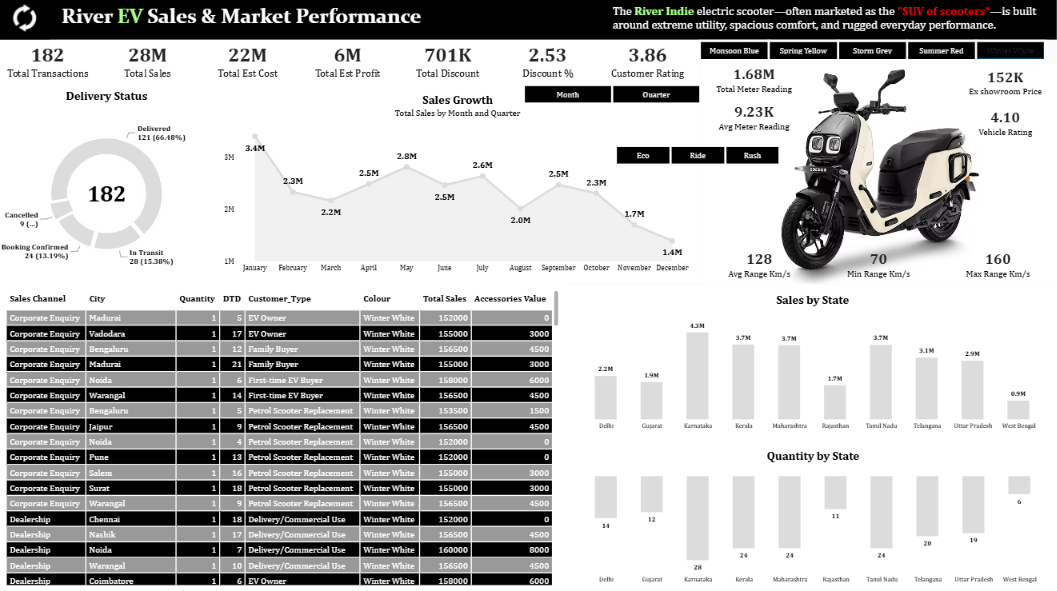

What the dashboard file says about the page in this screenshot:
{"tool":"powerbi","page":{"name":"Page 1","canvas":[1920,1080],"ordinal":0},"visuals":[{"type":"cardVisual","fields":{"Data":["Transactions.Total Transactions","Transactions.Total Sales","Transactions.Total Est Cost","Transactions.Total Est Profit","Transactions.Total Discount Given","Transactions.Total Discount Percentage","Transactions.Customer Rating"]},"box":[0,76,1268.6,83.2],"z":0},{"type":"cardVisual","fields":{"Data":["Min(Transactions.Image URL)"]},"box":[1270.5,122.1,649.5,399.1],"z":0,"group":"g1"},{"type":"shape","box":[0,0,1918.2,77.8],"z":1000},{"type":"cardVisual","fields":{"Data":["Transactions.Ex showroom price of Individual Vehicle"]},"box":[1727.7,120.1,191.9,72.4],"z":2000,"group":"g2"},{"type":"lineChart","title":"Sales Growth","fields":{"Category":["Transactions.Order_Date.Variation.Date Hierarchy.Month","Transactions.Order_Date.Variation.Date Hierarchy.Quarter"],"Y":["Transactions.Total Sales"]},"box":[394.5,159.3,875.9,360.1],"z":2000},{"type":"advancedSlicerVisual","fields":{"Values":["Date Axis.Date Axis"]},"box":[930.2,157.4,365.6,38],"z":3000},{"type":"advancedSlicerVisual","fields":{"Values":["Transactions.Colour"]},"box":[1248.7,77.8,669.6,39.8],"z":4000},{"type":"cardVisual","fields":{"Data":["Transactions.Average Rating"]},"box":[1727.7,192.5,191.9,75.7],"z":4000,"group":"g2"},{"type":"cardVisual","fields":{"Data":["Transactions.Average Range","Transactions.Minimum Range","Transactions.Maximum Range"]},"box":[1270.4,454.5,649.7,62.2],"z":4000,"group":"g1"},{"type":"actionButton","box":[0,0,97.7,77.8],"z":5000},{"type":"cardVisual","fields":{"Data":["Transactions.Total Odometer Reading","Transactions.Average Odometer Reading"]},"box":[1269.7,118.3,197.3,135.7],"z":5000,"group":"g1"},{"type":"textbox","box":[97.7,12.7,803.5,56.1],"z":6000},{"type":"donutChart","title":"Delivery Status","fields":{"Category":["Transactions.Delivery_Status"],"Y":["CountNonNull(Transactions.Delivery_Status)"]},"box":[0,152,394.5,369.2],"z":7000},{"type":"lineClusteredColumnComboChart","title":"Sales by State","fields":{"Category":["Transactions.State"],"Y":["Transactions.Total Sales"]},"box":[1031.5,521.2,886.7,282.3],"z":8000},{"type":"group","id":"g1","title":"Group 2","box":[1269.7,118.3,650.4,402.9],"z":9000},{"type":"group","id":"g2","title":"Group 1","box":[1727.7,120.1,191.9,149.9],"z":9000,"group":"g1"},{"type":"clusteredColumnChart","title":"Quantity by State","fields":{"Category":["Transactions.State"],"Y":["CountNonNull(Transactions.Quantity)"]},"box":[1031.5,803.5,888.5,276.9],"z":10000},{"type":"tableEx","fields":{"Values":["Transactions.Sales_Channel","Transactions.City","Sum(Transactions.Quantity)","Sum(Transactions.Days_To_Delivery)","Transactions.Customer_Type","Transactions.Colour","Transactions.Total Sales","Transactions.Accessories Value"]},"box":[0,517.6,1031.5,562.8],"z":11000},{"type":"advancedSlicerVisual","fields":{"Values":["Transactions.Preferred_Riding_Mode"]},"box":[1096.7,267.8,343.8,38],"z":12000},{"type":"textbox","box":[1112.9,12.7,805.3,54.3],"z":12001}]}

Visuals, with their boxes in screenshot pixels (x1, y1, x2, y2), scaled from the page's 1920x1080 canvas onto the 1057x591 screenshot:
cardVisual - Transactions.Total Transactions x Transactions.Total Sales: [left=0, top=42, right=698, bottom=87]
cardVisual - Min(Transactions.Image URL): [left=699, top=67, right=1056, bottom=285]
shape: [left=0, top=0, right=1056, bottom=43]
cardVisual - Transactions.Ex showroom price of Individual Vehicle: [left=951, top=66, right=1056, bottom=105]
"Sales Growth" lineChart: [left=217, top=87, right=699, bottom=284]
advancedSlicerVisual - Date Axis.Date Axis: [left=512, top=86, right=713, bottom=107]
advancedSlicerVisual - Transactions.Colour: [left=687, top=43, right=1056, bottom=64]
cardVisual - Transactions.Average Rating: [left=951, top=105, right=1056, bottom=147]
cardVisual - Transactions.Average Range x Transactions.Minimum Range: [left=699, top=249, right=1056, bottom=283]
actionButton: [left=0, top=0, right=54, bottom=43]
cardVisual - Transactions.Total Odometer Reading x Transactions.Average Odometer Reading: [left=699, top=65, right=808, bottom=139]
textbox: [left=54, top=7, right=496, bottom=38]
"Delivery Status" donutChart: [left=0, top=83, right=217, bottom=285]
"Sales by State" lineClusteredColumnComboChart: [left=568, top=285, right=1056, bottom=440]
"Group 2" group: [left=699, top=65, right=1056, bottom=285]
"Group 1" group: [left=951, top=66, right=1056, bottom=148]
"Quantity by State" clusteredColumnChart: [left=568, top=440, right=1056, bottom=590]
tableEx - Transactions.Sales_Channel x Transactions.City: [left=0, top=283, right=568, bottom=590]
advancedSlicerVisual - Transactions.Preferred_Riding_Mode: [left=604, top=147, right=793, bottom=167]
textbox: [left=613, top=7, right=1056, bottom=37]
